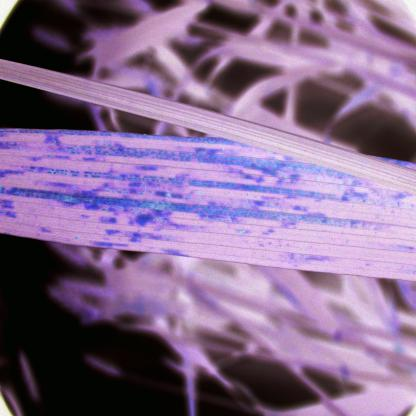corn rust leaf: (0, 125, 416, 290)
